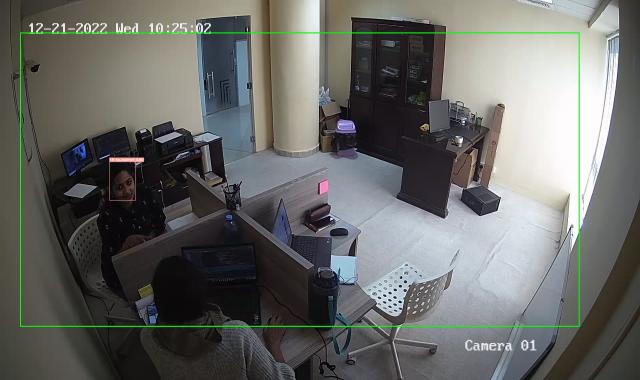no_hairnet: (153, 258, 205, 317), (108, 168, 138, 207)
